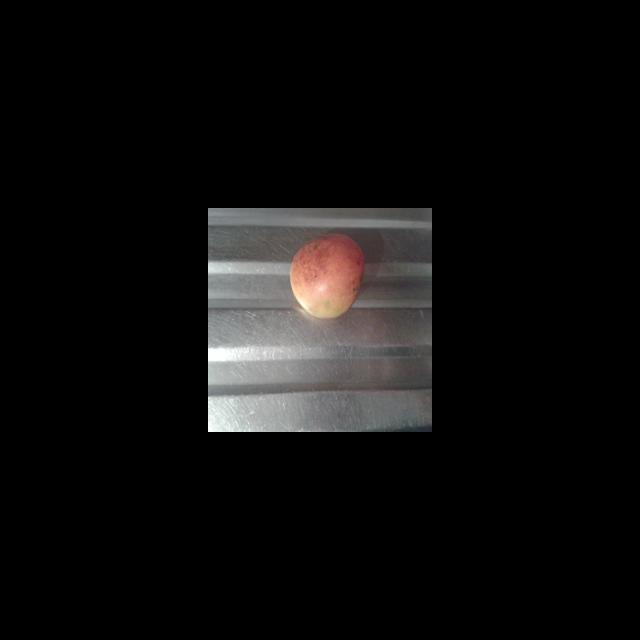Mango: (289, 232, 364, 319)
